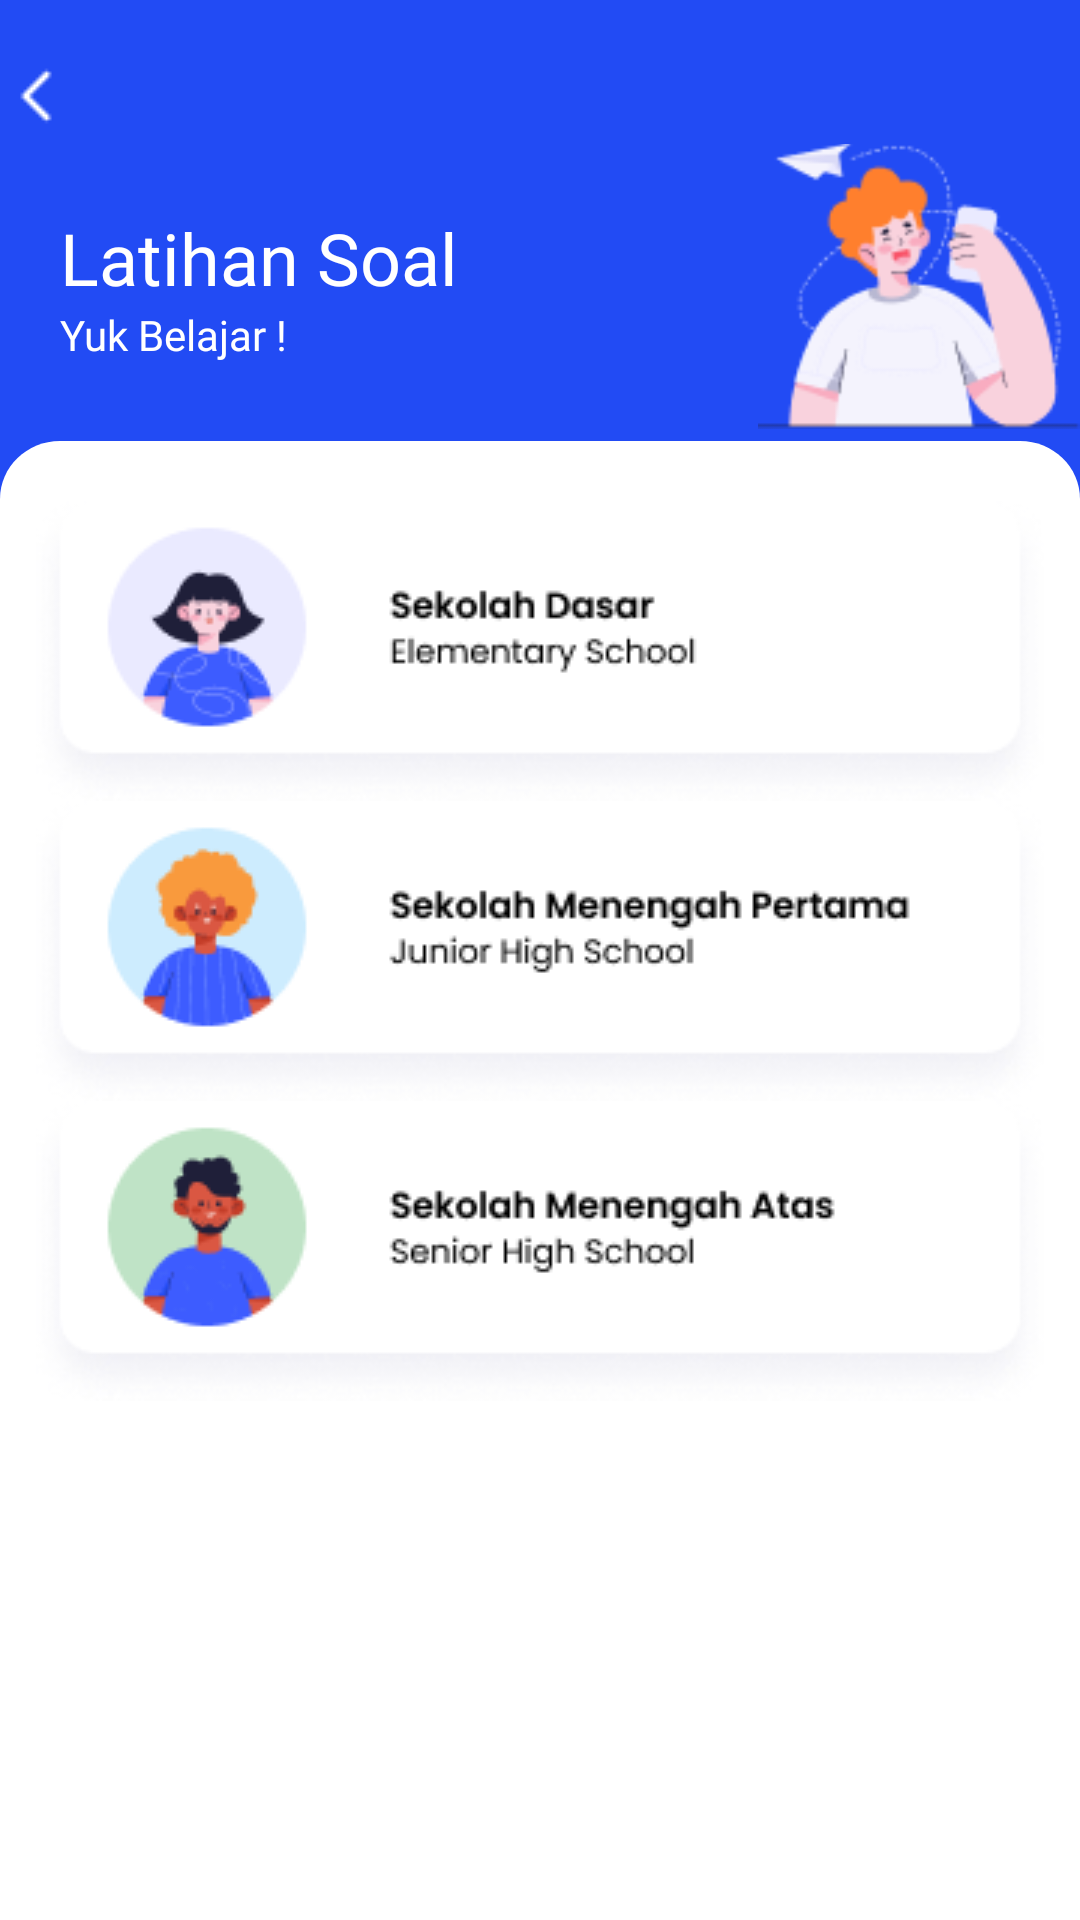

Locate icon controls on the screen. Image size 1080px×1920px, boxes as (x1, y1, x2, y2).
leftsiku: (20, 69, 52, 122)
